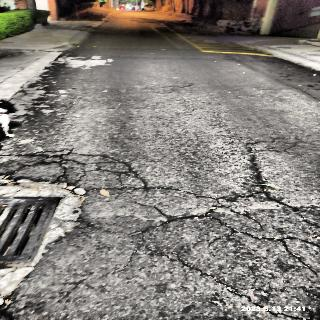alligator-crack: (94, 147, 320, 316), (2, 150, 148, 199)
